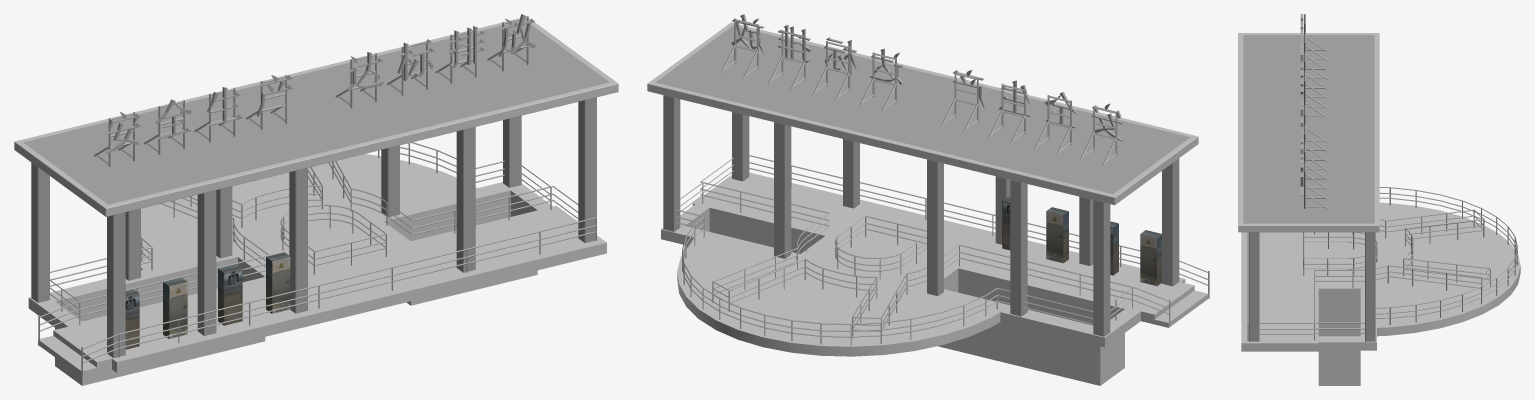
File: PeiShuiPaiNiJing.fbx
3 views of the same model, side by side, from view 1: azimuth 30°, elevation 25°; view 2: azimuth 150°, elevation 25°; view 3: azimuth 270°, elevation 25° (orthographic). The views are drawn at different scales.
Parts seen in each view (by area): view 1: DiMian, FangDing, ZhuZi, JinShuGan, SheBei, Zi, TaiJie; view 2: DiMian, FangDing, ZhuZi, JinShuGan, SheBei, Zi, TaiJie; view 3: DiMian, FangDing, JinShuGan, ZhuZi, Zi.
Part boxes in pixels (x1,y1,x2,y2): DiMian: (28, 154, 606, 385); FangDing: (14, 16, 618, 216); ZhuZi: (31, 97, 596, 357); JinShuGan: (38, 16, 596, 377); SheBei: (125, 252, 290, 349); Zi: (105, 14, 536, 153); TaiJie: (38, 326, 111, 376); DiMian: (661, 172, 1185, 385); FangDing: (647, 22, 1198, 205); ZhuZi: (663, 95, 1179, 336); JinShuGan: (675, 18, 1209, 345); SheBei: (1002, 196, 1161, 286); Zi: (731, 14, 1123, 141); TaiJie: (1141, 282, 1208, 327); DiMian: (1241, 202, 1520, 385); FangDing: (1238, 33, 1379, 232); JinShuGan: (1247, 14, 1517, 341); ZhuZi: (1249, 232, 1375, 341); Zi: (1300, 14, 1303, 196).
Bounding box in the file's own units: 1237 × 612 × 739.
